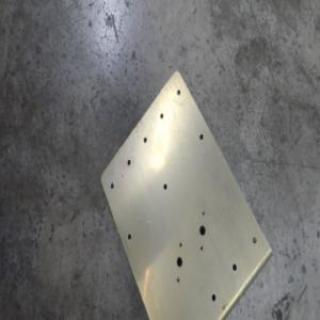MetalSheettrack_idkeyframe: (98, 67, 272, 319)
